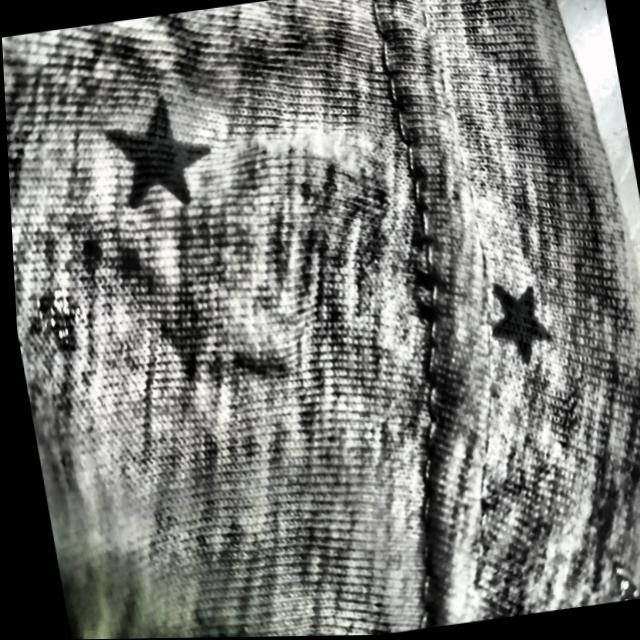Stitch: (363, 167, 478, 388)
